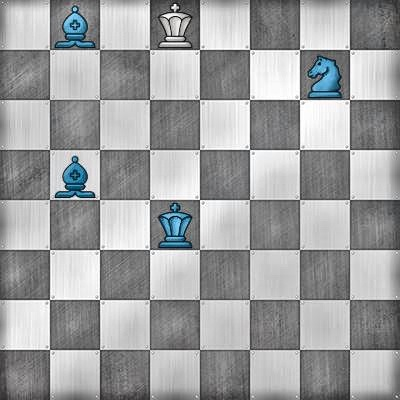black-bishop: (50, 0, 100, 50), (50, 150, 100, 200)
black-king: (150, 200, 200, 250)
black-knight: (300, 50, 350, 100)
white-king: (150, 0, 200, 50)
